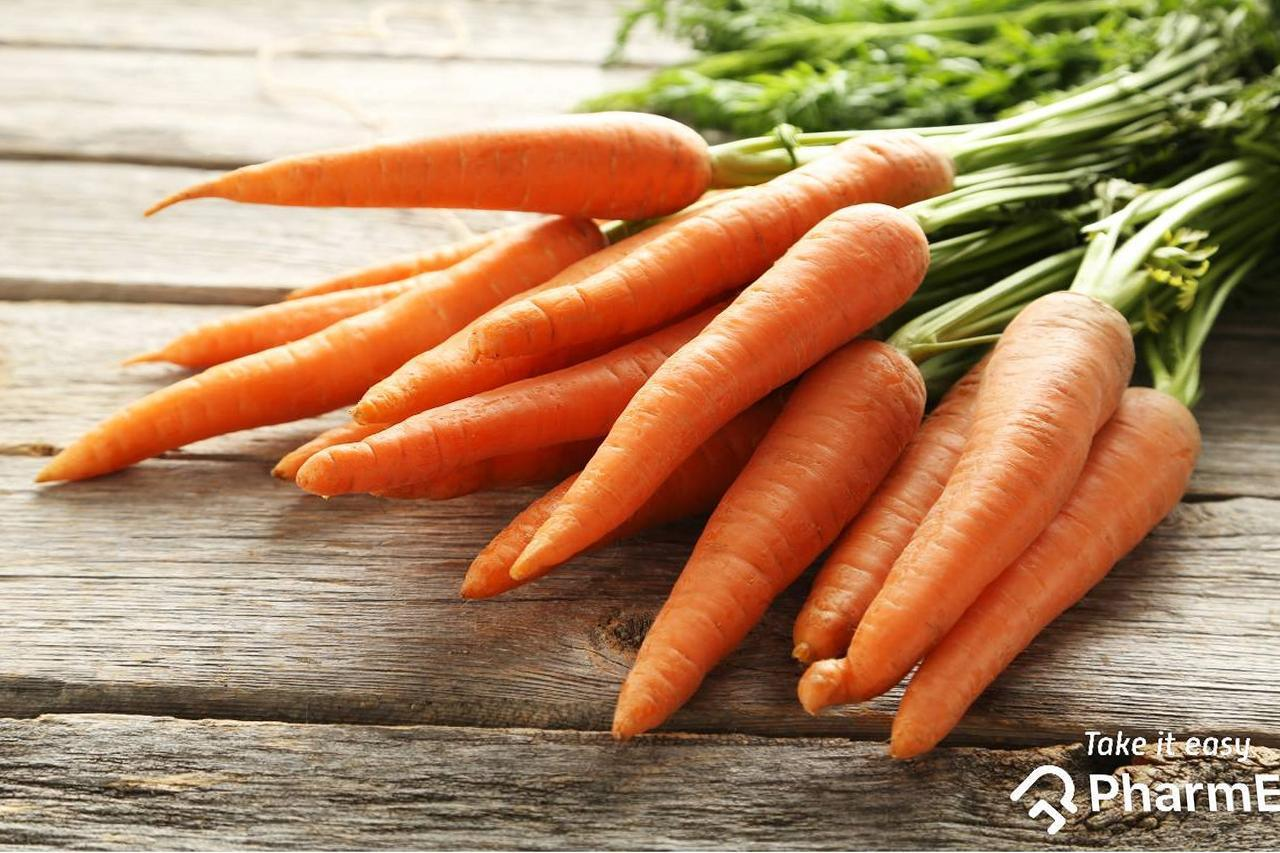carrot: (0, 171, 1246, 612), (509, 193, 1280, 744), (105, 105, 736, 235)
